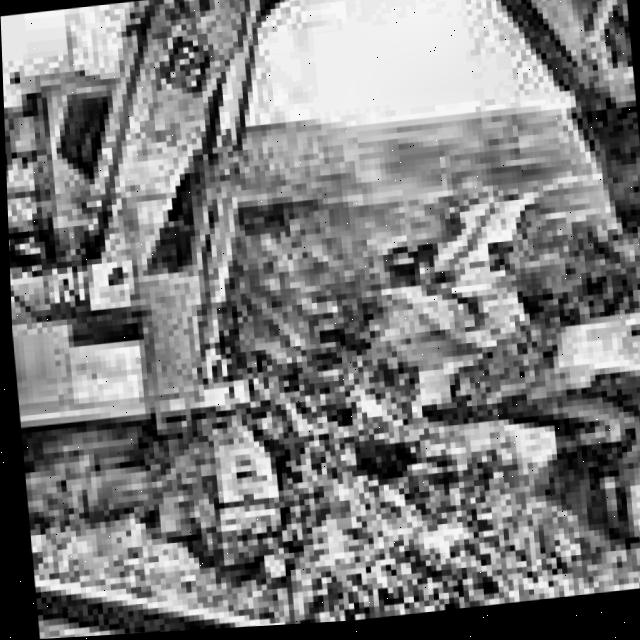dump_truck: (472, 261, 640, 610)
excavator: (0, 0, 640, 599)
